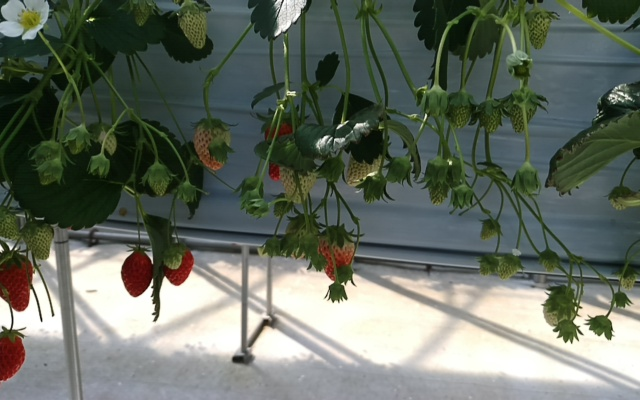GreenStrawberry: (343, 127, 388, 188), (191, 116, 234, 171), (278, 146, 317, 206), (30, 140, 68, 187), (424, 158, 459, 209), (286, 212, 319, 265), (176, 1, 208, 51), (541, 288, 577, 330), (507, 89, 538, 136), (22, 218, 55, 261), (522, 8, 553, 50), (444, 89, 472, 130), (474, 98, 502, 134), (144, 162, 171, 197), (93, 121, 117, 160), (496, 249, 521, 283), (1, 207, 22, 245), (607, 185, 635, 212), (478, 216, 503, 242), (160, 244, 183, 270), (538, 249, 560, 274), (131, 1, 152, 27), (616, 266, 637, 292), (477, 254, 497, 278)
MatureStrawberry: (260, 111, 303, 181), (317, 223, 359, 285), (1, 249, 35, 313), (120, 246, 153, 298), (1, 327, 28, 384), (163, 244, 197, 288)
